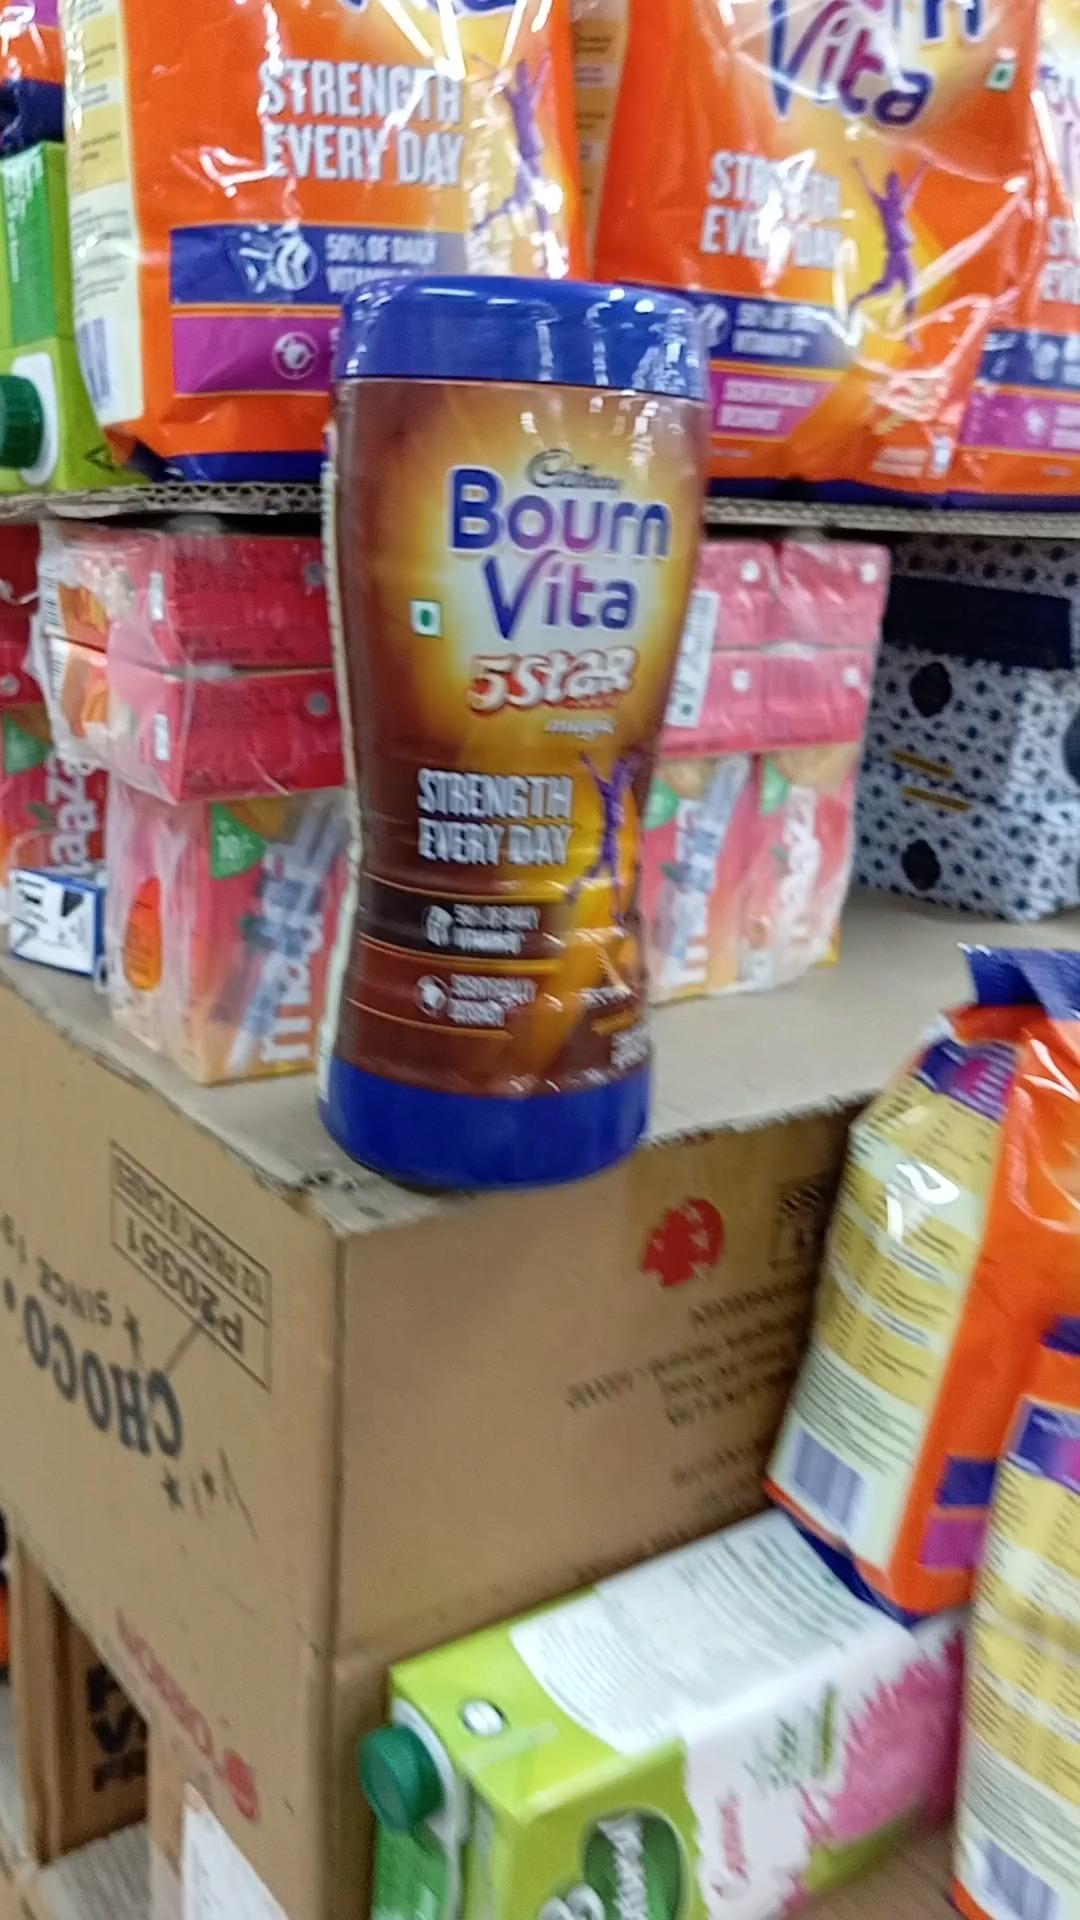BOURN_VITA_FIVE_STAR_MAGIC_500_G_JAR: (310, 262, 700, 1184)
